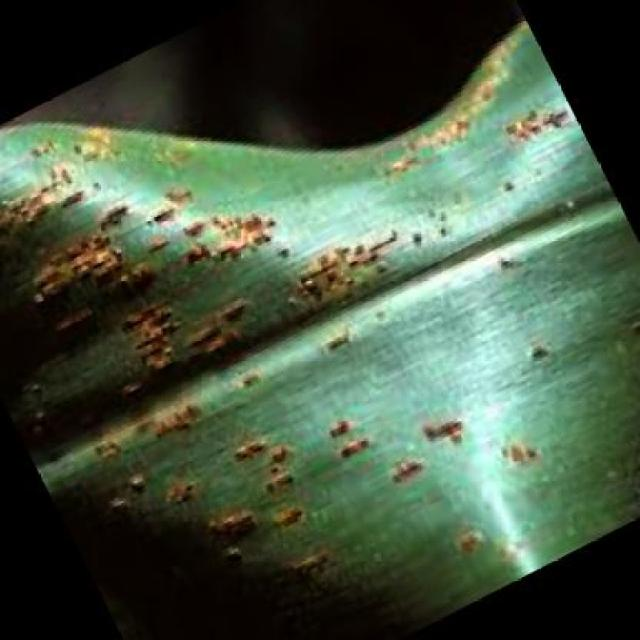Corn_Rust: (46, 103, 569, 482)
